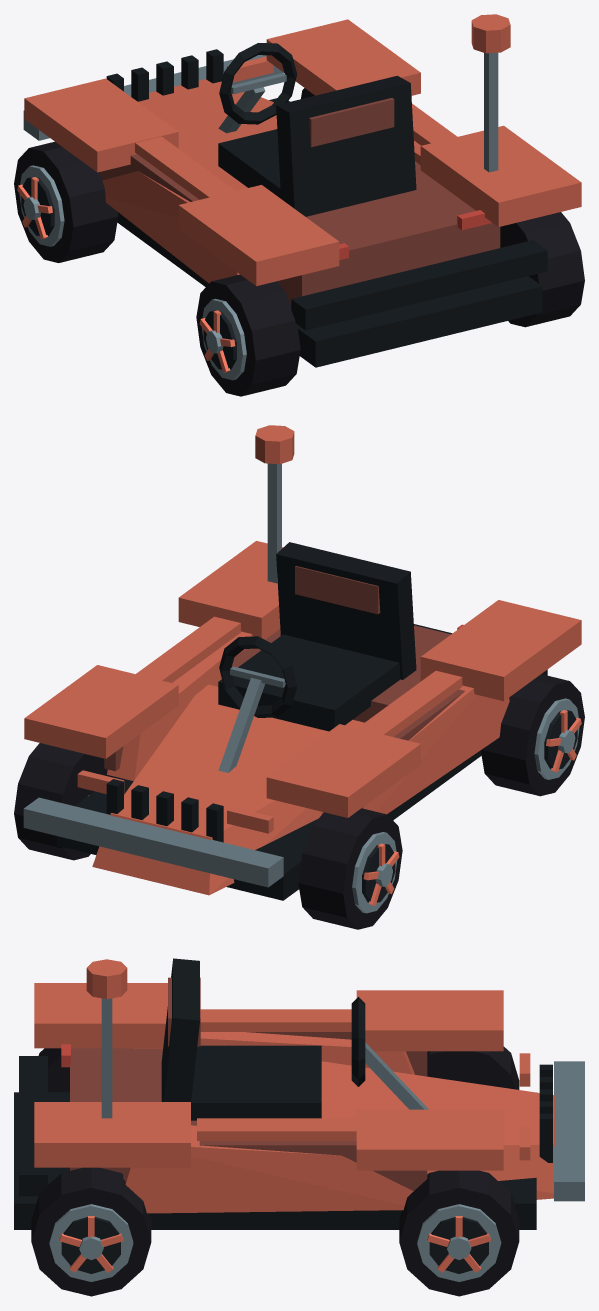
The model's file is kart.glb.
3 views of the same model, one above another, from view 1: azimuth 30°, elevation 25°; view 2: azimuth 150°, elevation 25°; view 3: azimuth 270°, elevation 25° (orthographic).
Visible parts, largest first — view 1: chassis, wheel-rear-left, wheel-front-left, wheel-rear-right; view 2: chassis, wheel-front-left, wheel-rear-left, wheel-front-right; view 3: chassis, wheel-front-right, wheel-rear-right, wheel-front-left, wheel-rear-left.
Boxes of the visible parts, bbox=[...] form: chassis: bbox=[23, 14, 581, 367]; wheel-rear-left: bbox=[196, 274, 300, 396]; wheel-front-left: bbox=[14, 141, 118, 262]; wheel-rear-right: bbox=[500, 212, 584, 327]; chassis: bbox=[23, 425, 581, 900]; wheel-front-left: bbox=[298, 808, 402, 929]; wheel-rear-left: bbox=[480, 674, 584, 796]; wheel-front-right: bbox=[14, 743, 114, 860]; chassis: bbox=[14, 958, 584, 1229]; wheel-front-right: bbox=[399, 1170, 519, 1296]; wheel-rear-right: bbox=[31, 1167, 151, 1296]; wheel-front-left: bbox=[427, 1046, 519, 1089]; wheel-rear-left: bbox=[38, 1048, 69, 1092].
Size of the model in its own units: 2.15 by 1.72 by 2.95.
